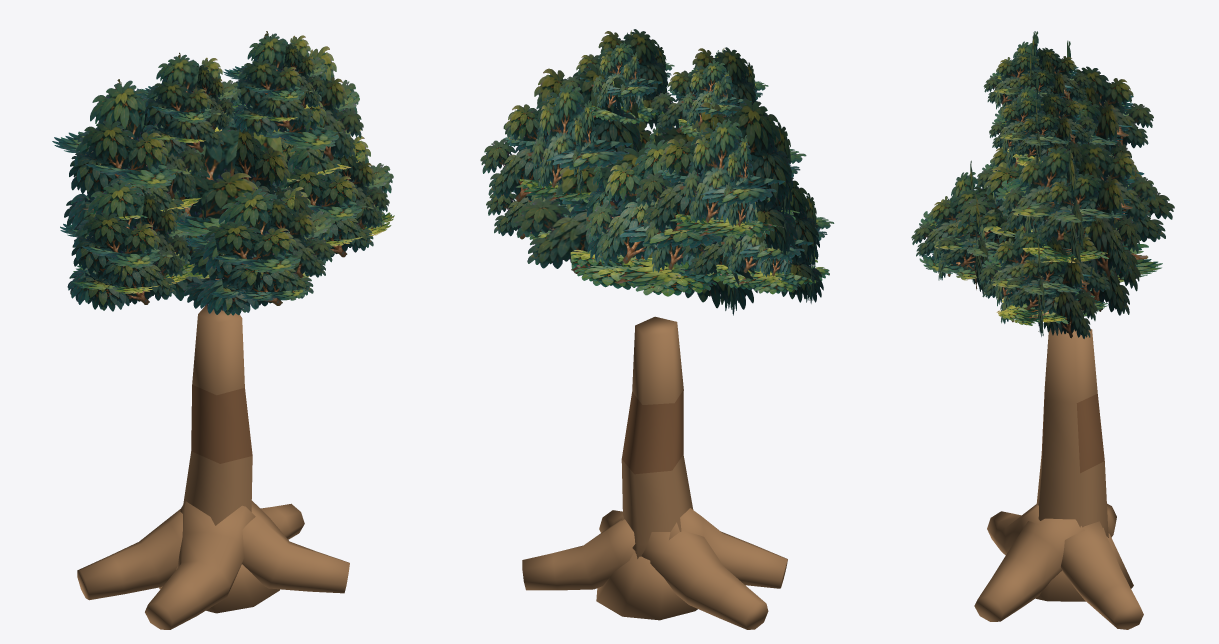
Rendered from TREE_EUCALYPTUS_001_v013_LOD_MAP.glb.
3 renders of one model, left to right at view 1: azimuth 30°, elevation 25°; view 2: azimuth 150°, elevation 25°; view 3: azimuth 270°, elevation 25°, orthographic. The views are drawn at different scales.
Visible parts, largest first — view 1: TREE_EUCALYPTUS_001_MAP_AUTHORED_FOLIAGE_ISLANDS, TREE_EUCALYPTUS_001_MAP_MAIN_TRUNK, TREE_EUCALYPTUS_001_MAP_ROOT_FRONT_LEFT, TREE_EUCALYPTUS_001_MAP_ROOT_FRONT_RIGHT, TREE_EUCALYPTUS_001_MAP_ROOT_LONG_LEFT, TREE_EUCALYPTUS_001_MAP_SCULPTED_ROOT_COLLAR, TREE_EUCALYPTUS_001_MAP_ROOT_RIGHT_SIDE; view 2: TREE_EUCALYPTUS_001_MAP_AUTHORED_FOLIAGE_ISLANDS, TREE_EUCALYPTUS_001_MAP_MAIN_TRUNK, TREE_EUCALYPTUS_001_MAP_ROOT_LONG_LEFT, TREE_EUCALYPTUS_001_MAP_ROOT_RIGHT_SIDE, TREE_EUCALYPTUS_001_MAP_SCULPTED_ROOT_COLLAR, TREE_EUCALYPTUS_001_MAP_ROOT_FRONT_LEFT; view 3: TREE_EUCALYPTUS_001_MAP_AUTHORED_FOLIAGE_ISLANDS, TREE_EUCALYPTUS_001_MAP_MAIN_TRUNK, TREE_EUCALYPTUS_001_MAP_ROOT_FRONT_RIGHT, TREE_EUCALYPTUS_001_MAP_ROOT_RIGHT_SIDE, TREE_EUCALYPTUS_001_MAP_ROOT_FRONT_LEFT, TREE_EUCALYPTUS_001_MAP_SCULPTED_ROOT_COLLAR.
Part boxes in pixels (<box>): TREE_EUCALYPTUS_001_MAP_AUTHORED_FOLIAGE_ISLANDS: <box>52,31,394,315</box>; TREE_EUCALYPTUS_001_MAP_MAIN_TRUNK: <box>182,304,252,525</box>; TREE_EUCALYPTUS_001_MAP_ROOT_FRONT_LEFT: <box>145,501,255,629</box>; TREE_EUCALYPTUS_001_MAP_ROOT_FRONT_RIGHT: <box>242,500,349,593</box>; TREE_EUCALYPTUS_001_MAP_ROOT_LONG_LEFT: <box>77,509,182,600</box>; TREE_EUCALYPTUS_001_MAP_SCULPTED_ROOT_COLLAR: <box>159,564,279,613</box>; TREE_EUCALYPTUS_001_MAP_ROOT_RIGHT_SIDE: <box>260,503,304,539</box>; TREE_EUCALYPTUS_001_MAP_AUTHORED_FOLIAGE_ISLANDS: <box>480,29,834,315</box>; TREE_EUCALYPTUS_001_MAP_MAIN_TRUNK: <box>621,316,693,558</box>; TREE_EUCALYPTUS_001_MAP_ROOT_LONG_LEFT: <box>632,530,768,629</box>; TREE_EUCALYPTUS_001_MAP_ROOT_RIGHT_SIDE: <box>522,519,635,590</box>; TREE_EUCALYPTUS_001_MAP_SCULPTED_ROOT_COLLAR: <box>596,552,697,620</box>; TREE_EUCALYPTUS_001_MAP_ROOT_FRONT_LEFT: <box>669,508,787,588</box>; TREE_EUCALYPTUS_001_MAP_AUTHORED_FOLIAGE_ISLANDS: <box>911,31,1174,338</box>; TREE_EUCALYPTUS_001_MAP_MAIN_TRUNK: <box>1036,327,1108,537</box>; TREE_EUCALYPTUS_001_MAP_ROOT_FRONT_RIGHT: <box>974,518,1084,621</box>; TREE_EUCALYPTUS_001_MAP_ROOT_RIGHT_SIDE: <box>1061,521,1143,629</box>; TREE_EUCALYPTUS_001_MAP_ROOT_FRONT_LEFT: <box>987,504,1040,555</box>; TREE_EUCALYPTUS_001_MAP_SCULPTED_ROOT_COLLAR: <box>1035,533,1133,601</box>.
Size of the model in its own units: 4.65 by 6.87 by 3.68.
3 materials, 1 textured.
